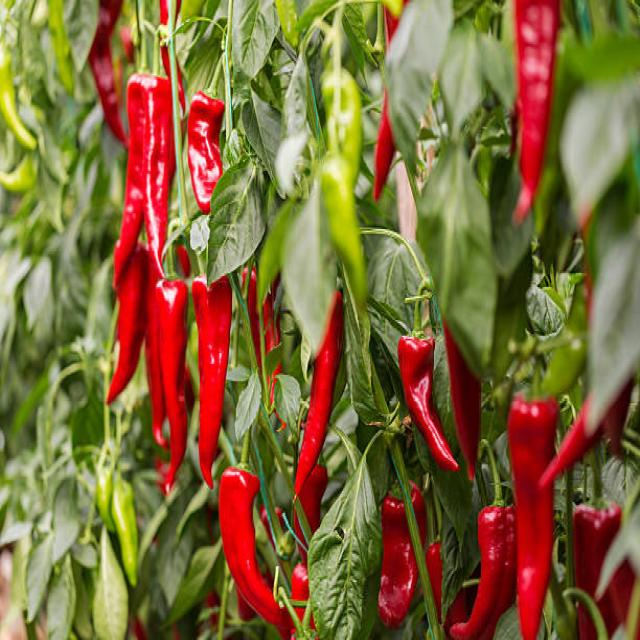Ripe: (218, 471, 296, 640), (293, 290, 343, 505), (450, 507, 515, 638), (192, 279, 231, 486), (398, 339, 457, 471), (378, 489, 426, 627), (156, 281, 186, 488), (144, 75, 173, 276), (188, 91, 224, 213)
